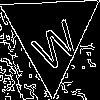W: (26, 10, 83, 74)
